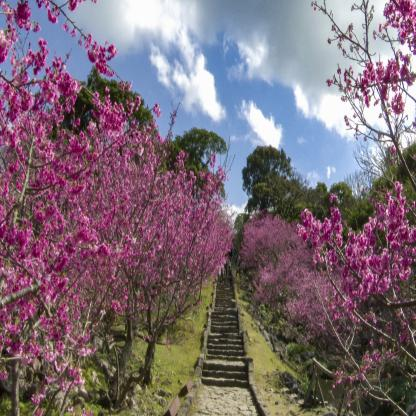KanhiSakura: (0, 0, 140, 416), (308, 0, 416, 411), (122, 94, 195, 334), (293, 192, 353, 319), (181, 155, 234, 291), (237, 212, 297, 317)
